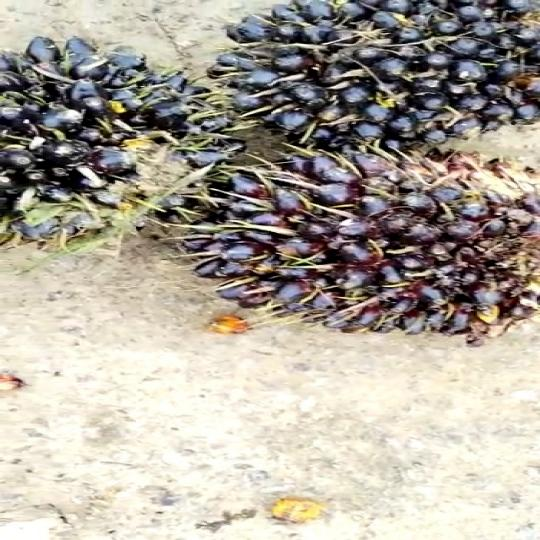mentah: (151, 154, 540, 338), (0, 32, 228, 254), (196, 0, 540, 147)
